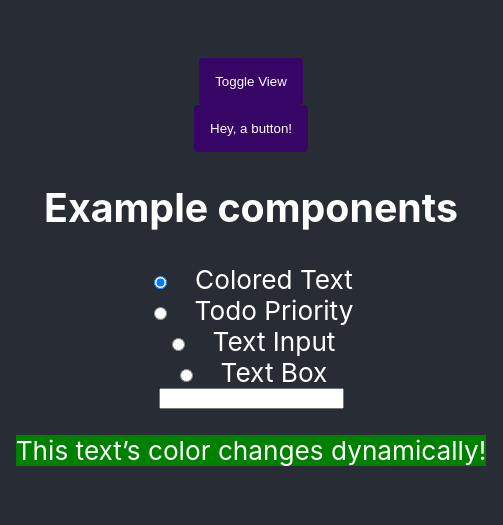
Test: clicks the dummy button
Click the button "Hey, a button!" at {"x": 251, "y": 128}, box left=194, top=105, right=308, bottom=152
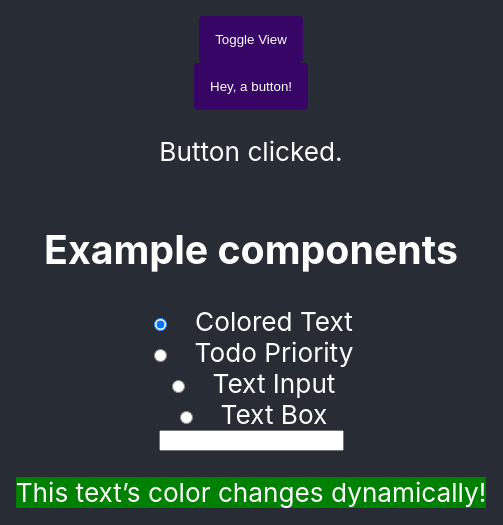
Now the text "Button clicked." is shown, box left=159, top=136, right=343, bottom=167
